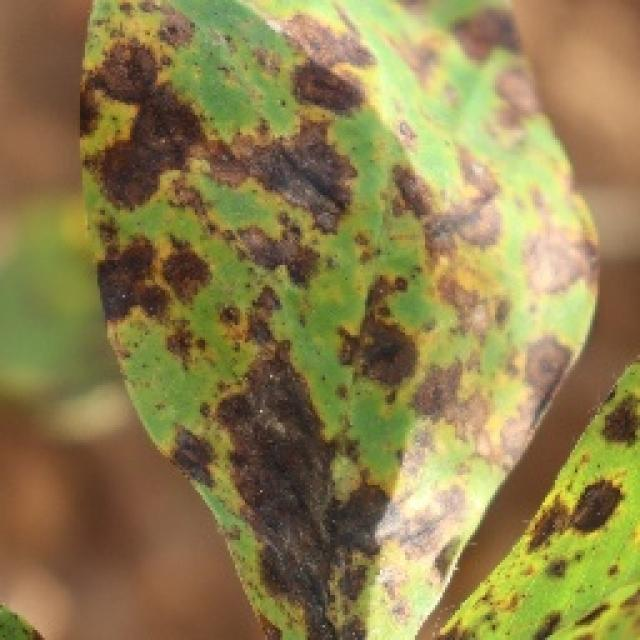Yellowish: (59, 0, 640, 635)
